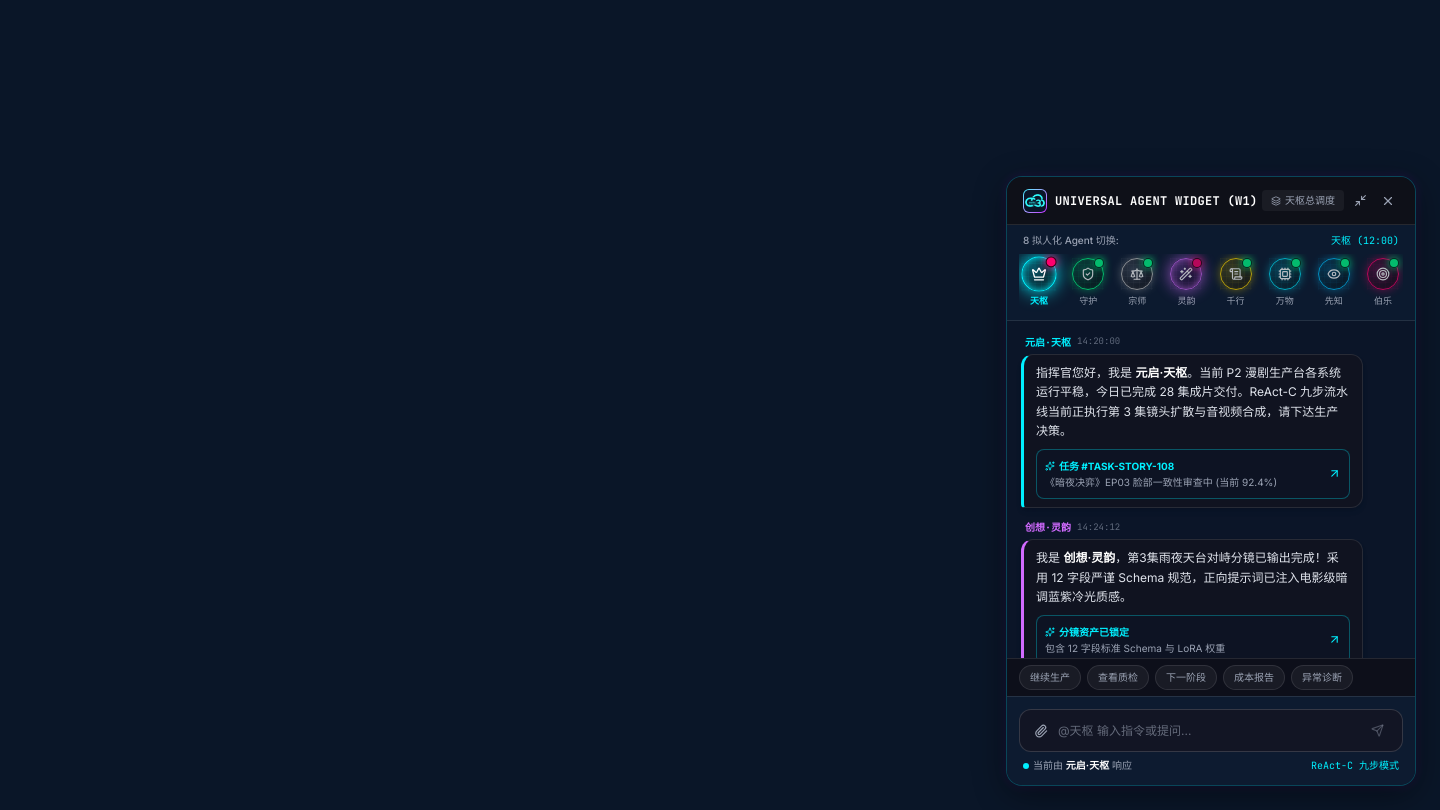
Test case: W1 人工接管卡片（PR7 全链路） › 质检指令 → 复检耗尽挂起 → 接管卡片渲染 → 重跑裁决 → 达标回复回流 + 卡片禁用
Note: 芯片「查看质检」触发 quality 意图 → dispatch
Click the button "查看质检" at {"x": 1118, "y": 678}, box [1087,665,1149,690]
(page scrolled)
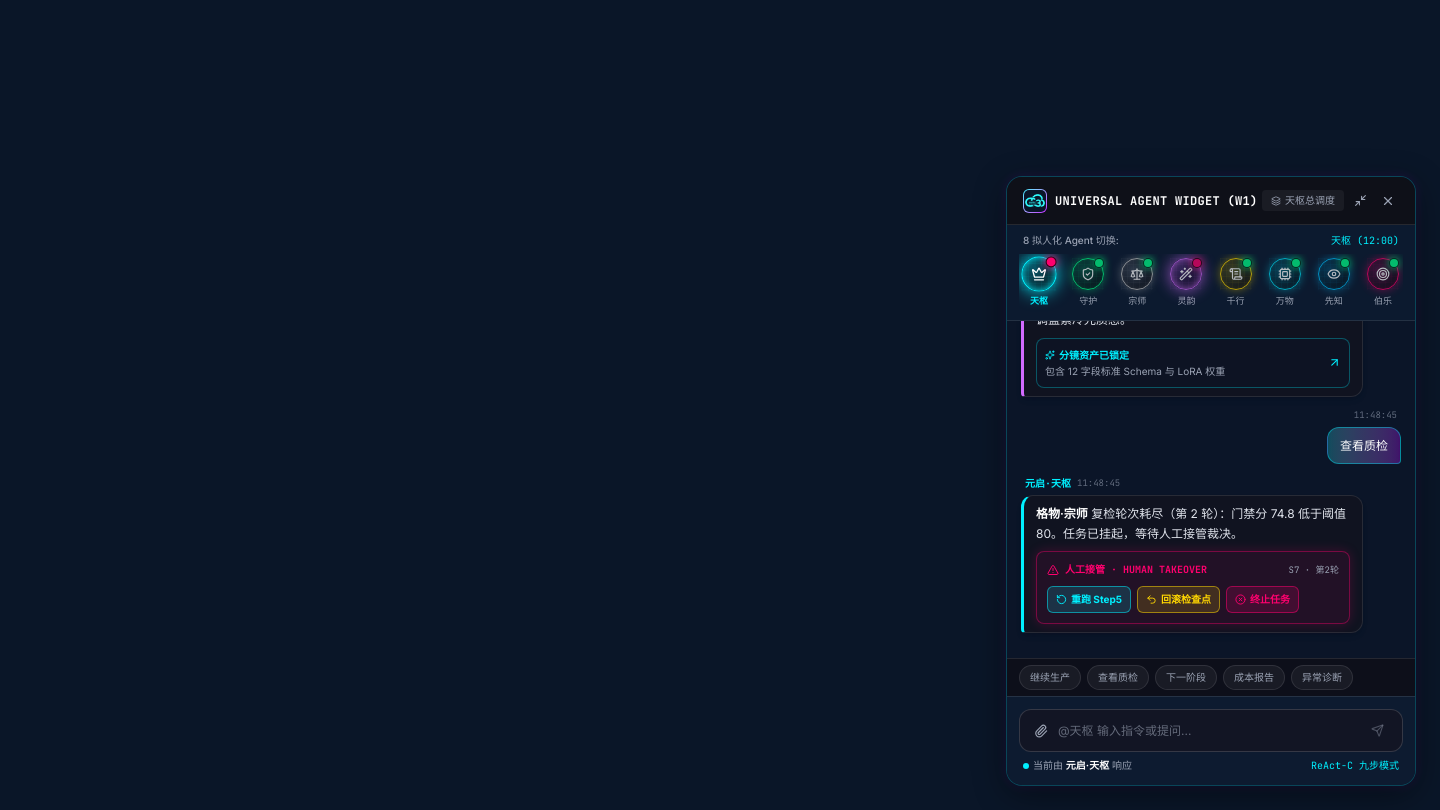
Check: the text "人工接管 · HUMAN TAKEOVER" is shown, box [1065,562,1207,578]
Check: the text "复检轮次耗尽（第 2 轮）：门禁分 74.8 低于阈值 80。任务已挂起，等待人工接管裁决。" is shown, box [1036,506,1350,540]
Check: the button "重跑 Step5" is shown
Click the button "重跑 Step5" at {"x": 1089, "y": 599}, box [1047,586,1131,613]
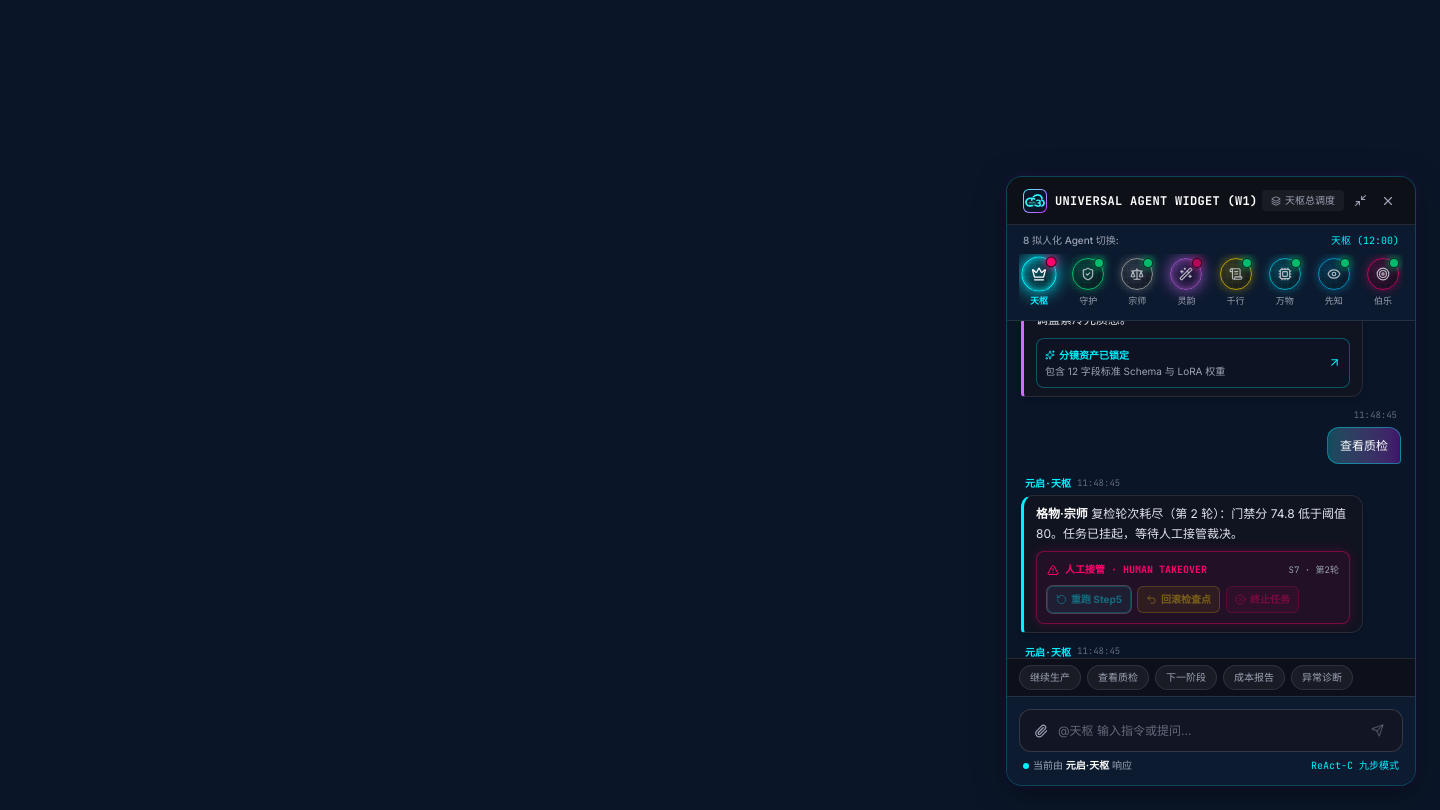
Check: the button "重跑 Step5" is disabled, box [1047,586,1131,613]
